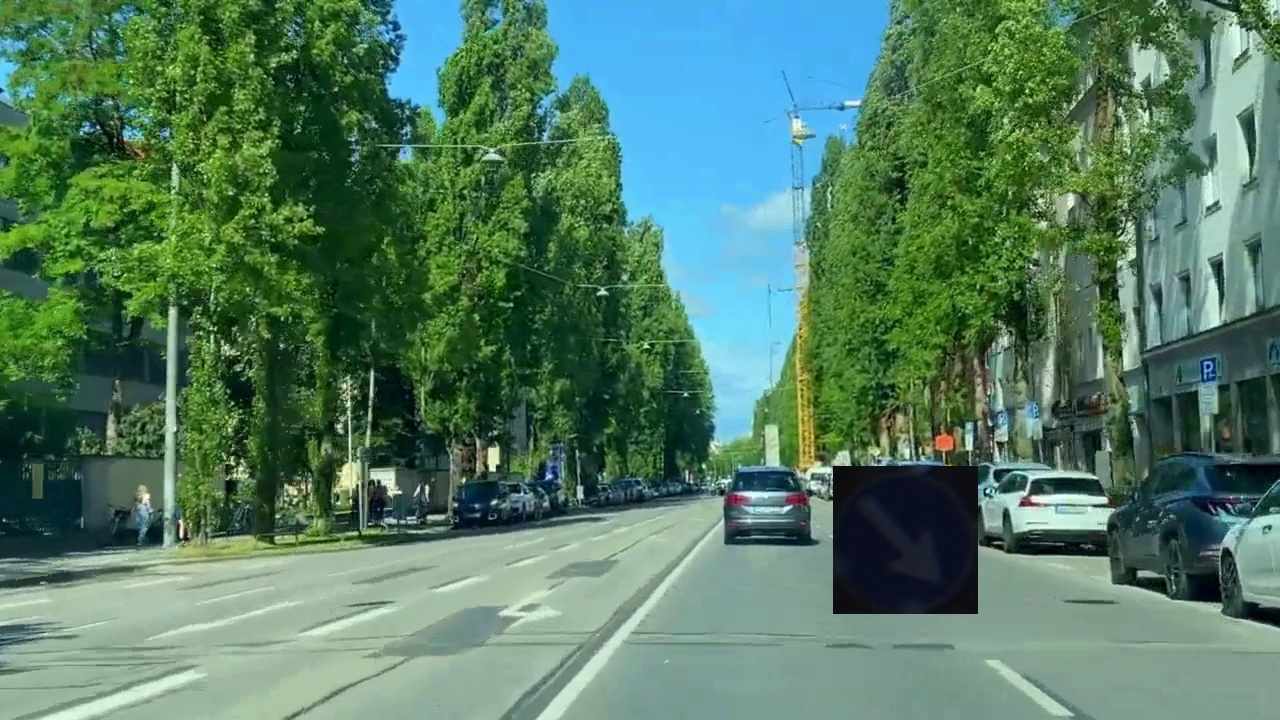Keep right: (833, 466, 978, 614)
